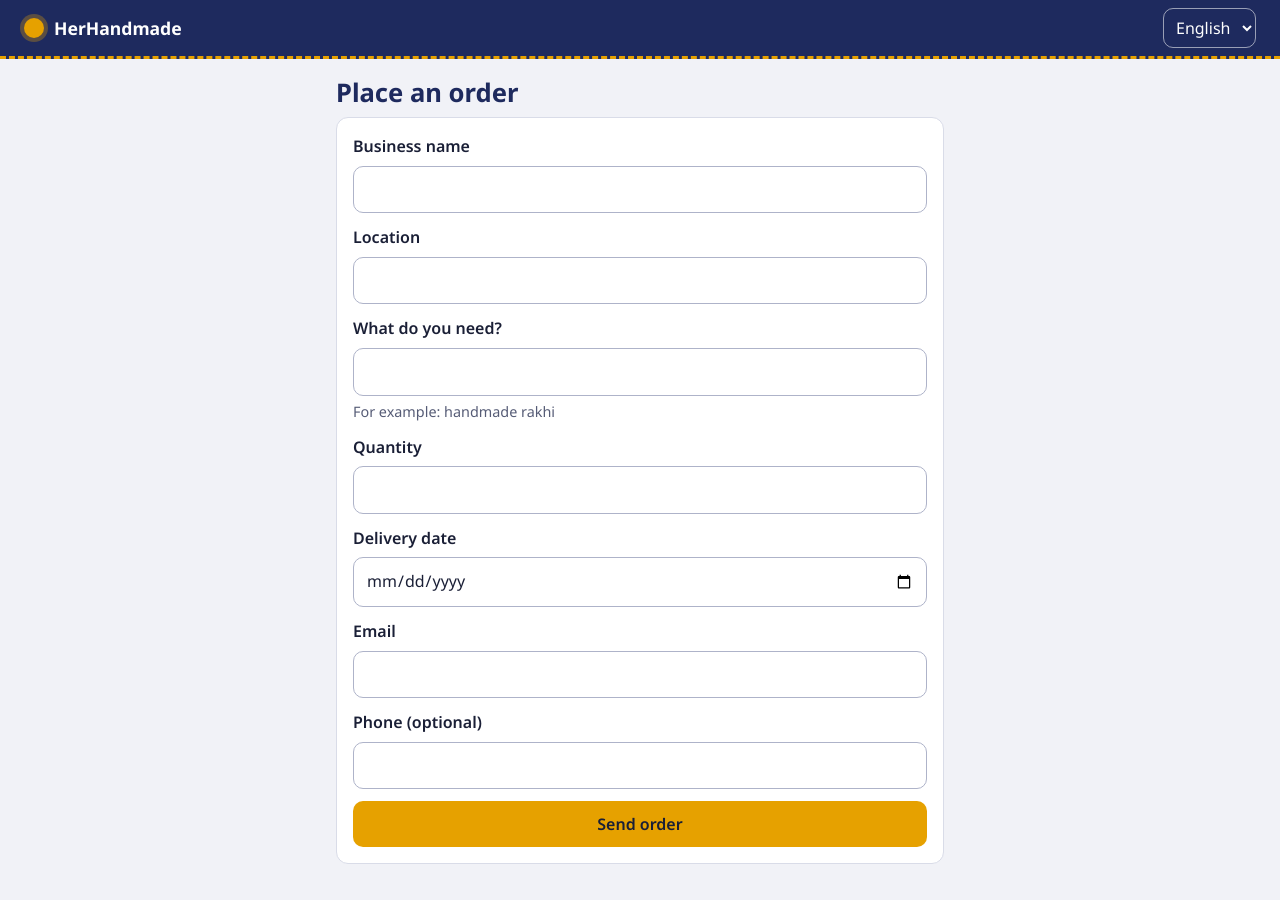
it: an empty form shows field errors and sends nothing
Click the button "Send order" at (640, 824), box [353,801,927,847]
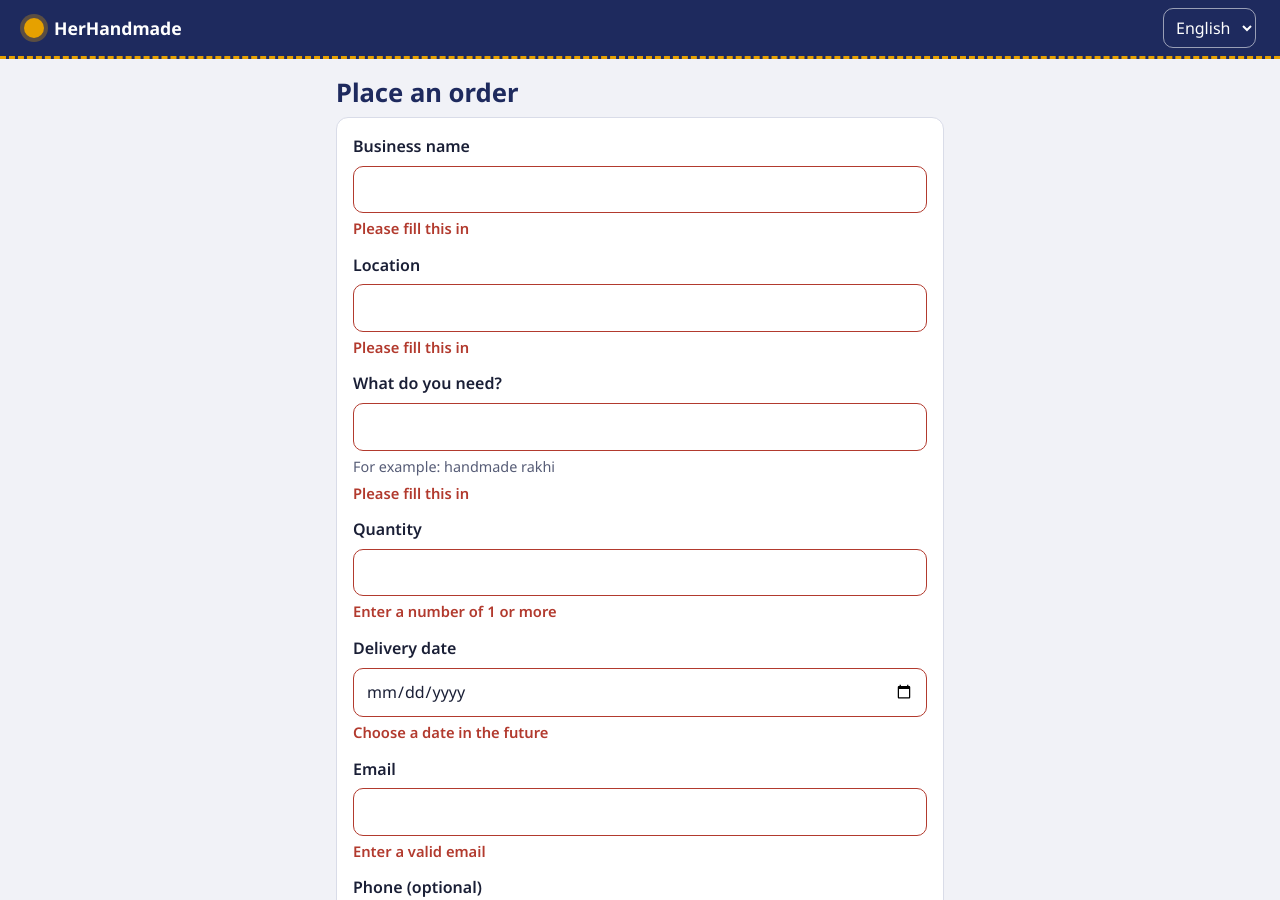
Result: the text "Please fill this in" is shown 3 times at [353,218,469,238]; [353,337,469,357]; [353,483,469,503]
Result: the text "Enter a number of 1 or more" is shown at [353,601,557,621]
Result: the text "Enter a valid email" is shown at [353,841,486,861]
